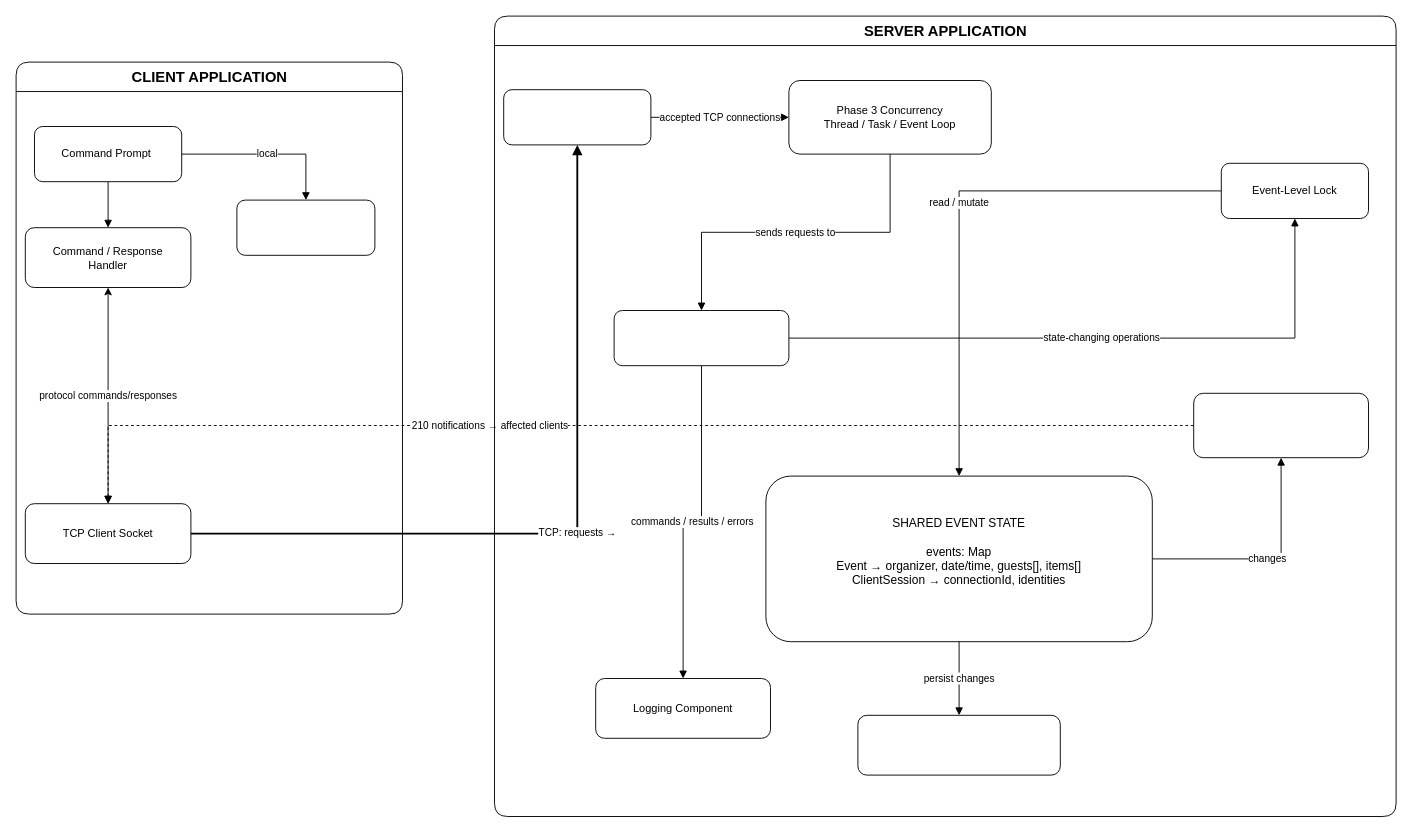
The diagram is 1412 pixels wide and 833 high, and some of its shapes have lost their labels. The shapes that lost their labels are listed below. From the top down, each one's centre as x and y in pixels, then its label:
(x=577, y=117): TCP Listener
(x=305, y=227): HELP (client-side only)
(x=701, y=338): Command Parser / Validator
(x=1280, y=425): Server Responses/ 210 Notifications
(x=958, y=744): Persistent JSON File write on every change
